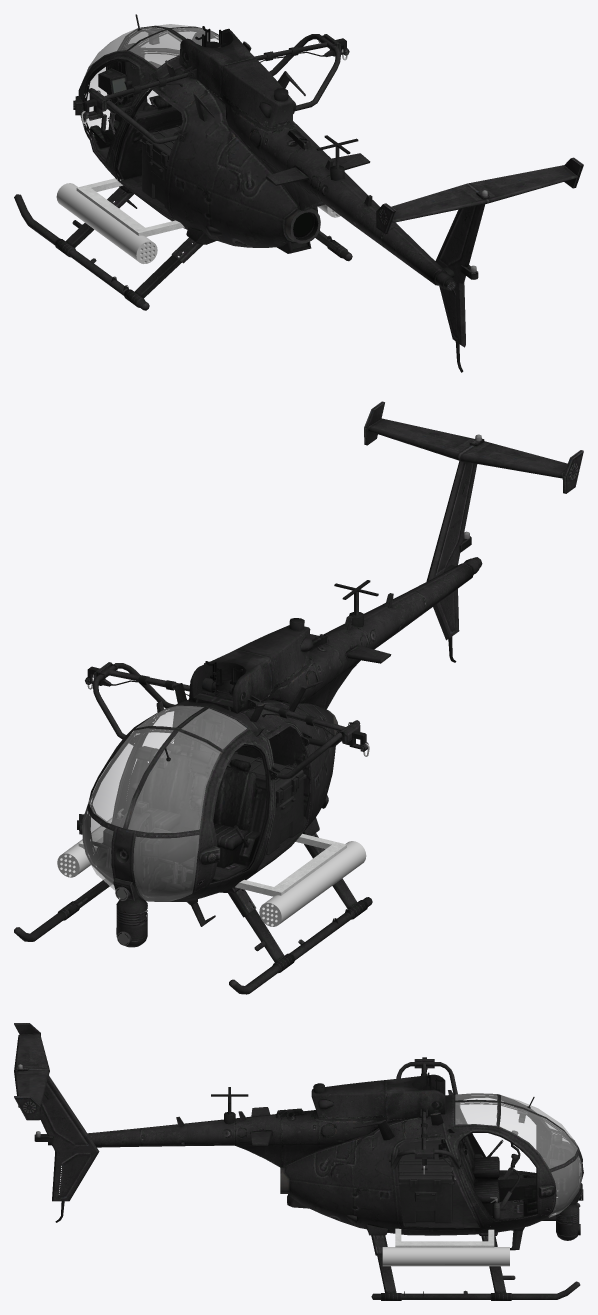
The model's file is body.obj.
The picture shows the model from 3 angles, top to bottom: view 1: azimuth 30°, elevation 25°; view 2: azimuth 150°, elevation 25°; view 3: azimuth 270°, elevation 25°; orthographic projection. The views are drawn at different scales.
Bounding box in the file's own units: 3.76 × 3.5 × 8.74.
